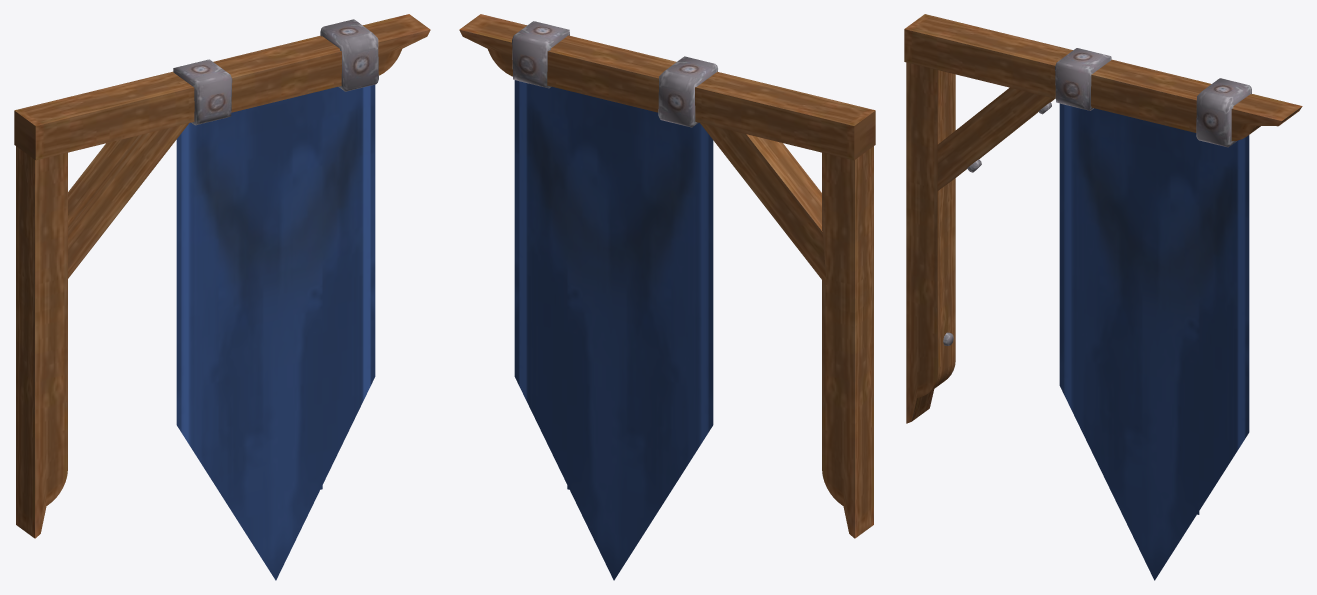
The model's file is banner-2.glb.
The picture shows the model from 3 angles, left to right: view 1: azimuth 30°, elevation 25°; view 2: azimuth 150°, elevation 25°; view 3: azimuth 330°, elevation 25°; orthographic projection. The views are drawn at different scales.
Parts seen in each view (by area): view 1: Banner_2; view 2: Banner_2; view 3: Banner_2.
Part boxes in pixels (<box>): Banner_2: <box>14,14,430,580</box>; Banner_2: <box>459,14,875,580</box>; Banner_2: <box>904,14,1302,580</box>.
Bounding box in the file's own units: 1.61 × 2.08 × 0.1906.
3 materials, 3 textured.
